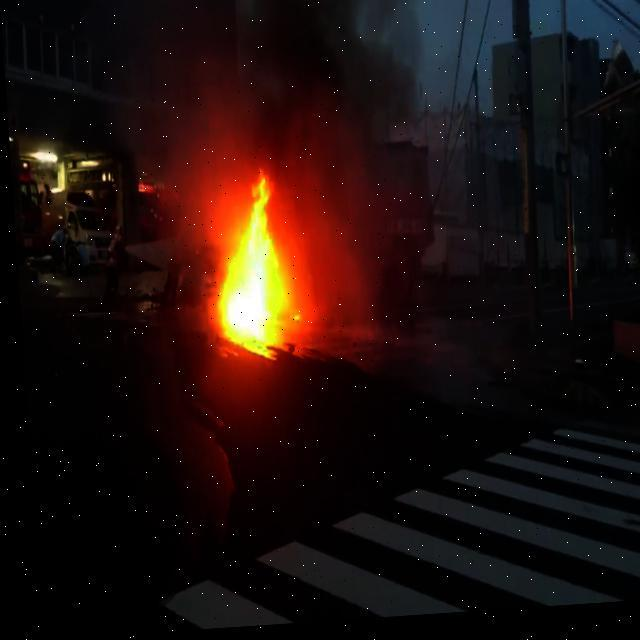Fire: (199, 176, 298, 331)
